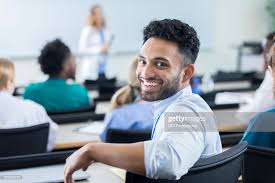Indian_Male: (130, 22, 196, 104)
